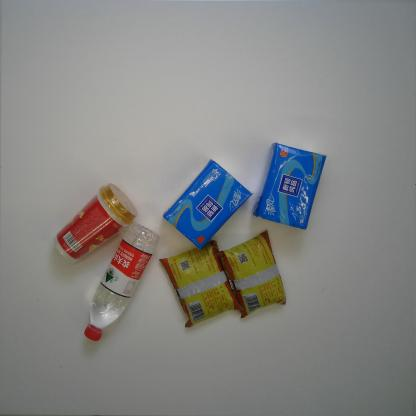Drink: (82, 222, 160, 342)
Instant Drink: (51, 181, 138, 264)
Seasoner: (158, 238, 244, 330), (217, 229, 287, 319)
Tissue: (162, 157, 253, 251), (252, 141, 326, 232)
